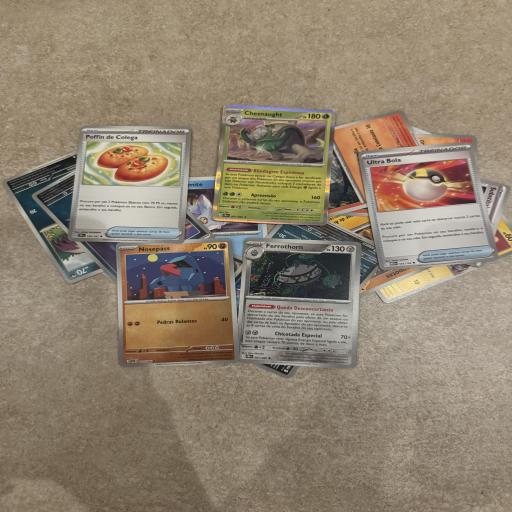card: (358, 129, 499, 282), (237, 236, 363, 369), (116, 238, 240, 368), (212, 104, 336, 226), (68, 125, 192, 242)
